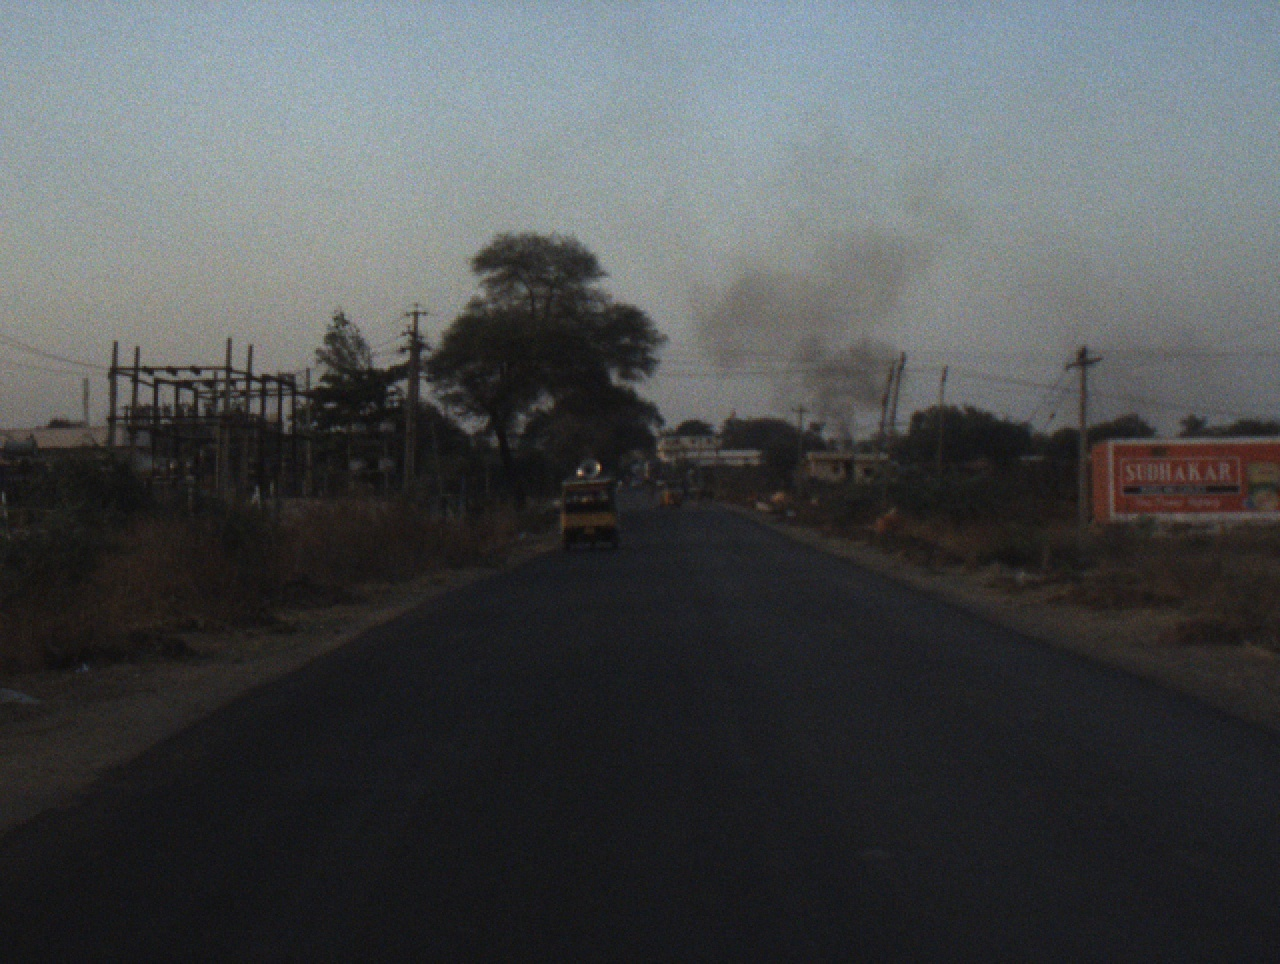autorickshaw: (553, 460, 626, 551), (653, 475, 685, 509)
car: (630, 475, 646, 489)
